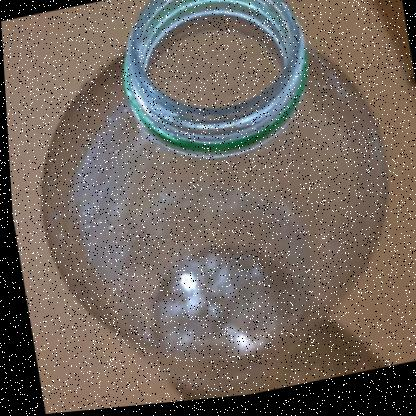open bottle: (1, 1, 416, 346)
